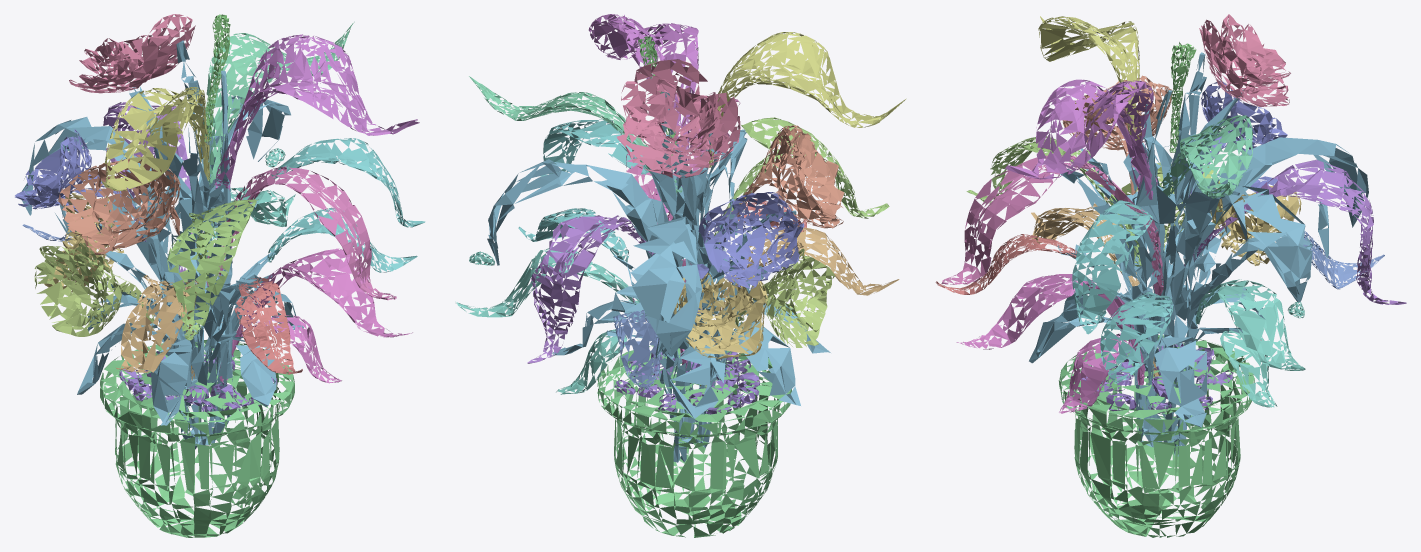
The model's file is 3.flower.glb.
The picture shows the model from 3 angles, left to right: view 1: azimuth 30°, elevation 25°; view 2: azimuth 150°, elevation 25°; view 3: azimuth 270°, elevation 25°; orthographic projection. The views are drawn at different scales.
Parts seen in each view (by area): view 1: 154c88671d9e8785bd909e9283bc87fb2709ac7ce13890832603ea753398 (×20); view 2: 154c88671d9e8785bd909e9283bc87fb2709ac7ce13890832603ea753398 (×18); view 3: 154c88671d9e8785bd909e9283bc87fb2709ac7ce13890832603ea753398 (×21).
Boxes of the visible parts, x1,y1,x2,y2 form: 154c88671d9e8785bd909e9283bc87fb2709ac7ce13890832603ea753398 (×20): (15,14,425,537); 154c88671d9e8785bd909e9283bc87fb2709ac7ce13890832603ea753398 (×18): (455,14,906,537); 154c88671d9e8785bd909e9283bc87fb2709ac7ce13890832603ea753398 (×21): (935,14,1406,537).
Size of the model in its own units: 0.7647 by 1 by 0.8674.
